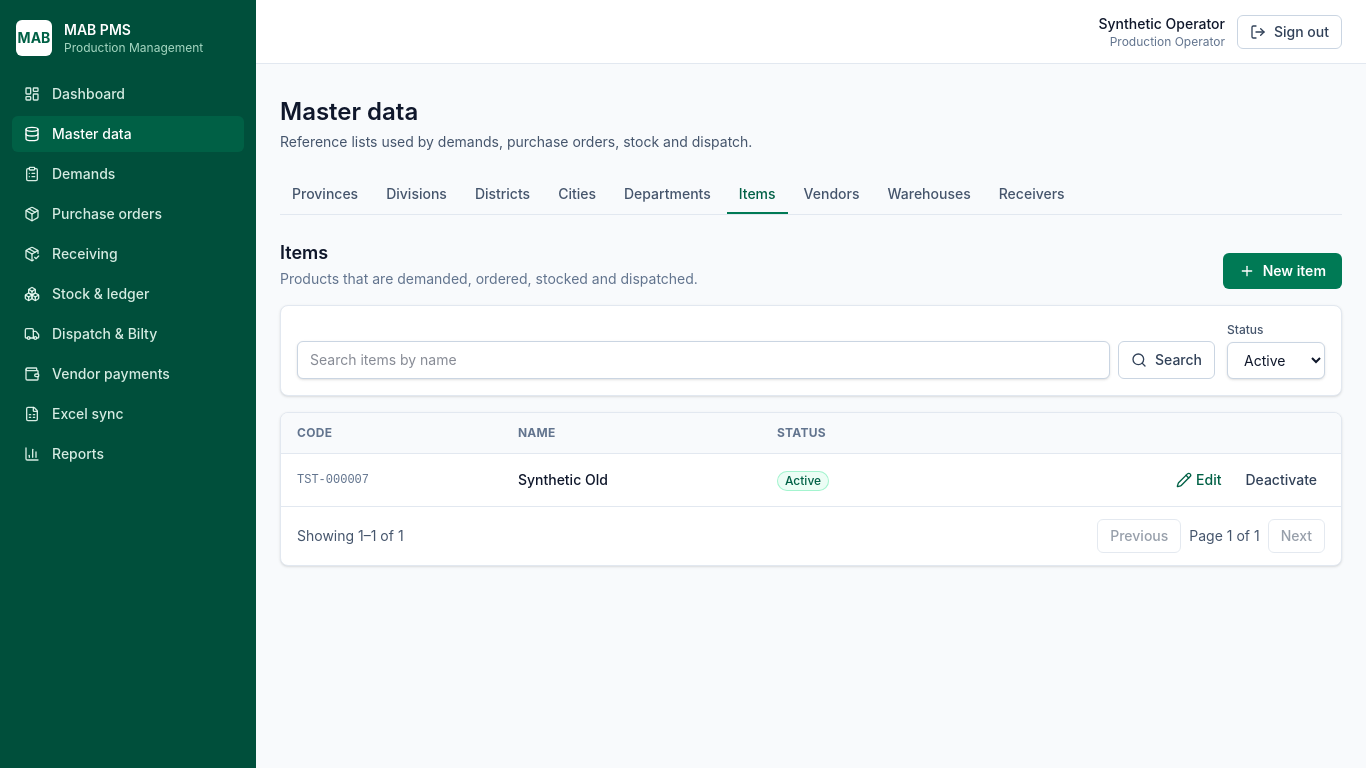
Test: Master data — create, edit and deactivate › edits a record, sending only changed fields with the revision
Click the button with aria-label "Edit Synthetic Old" at (1199, 480), box [1168,466,1230,494]
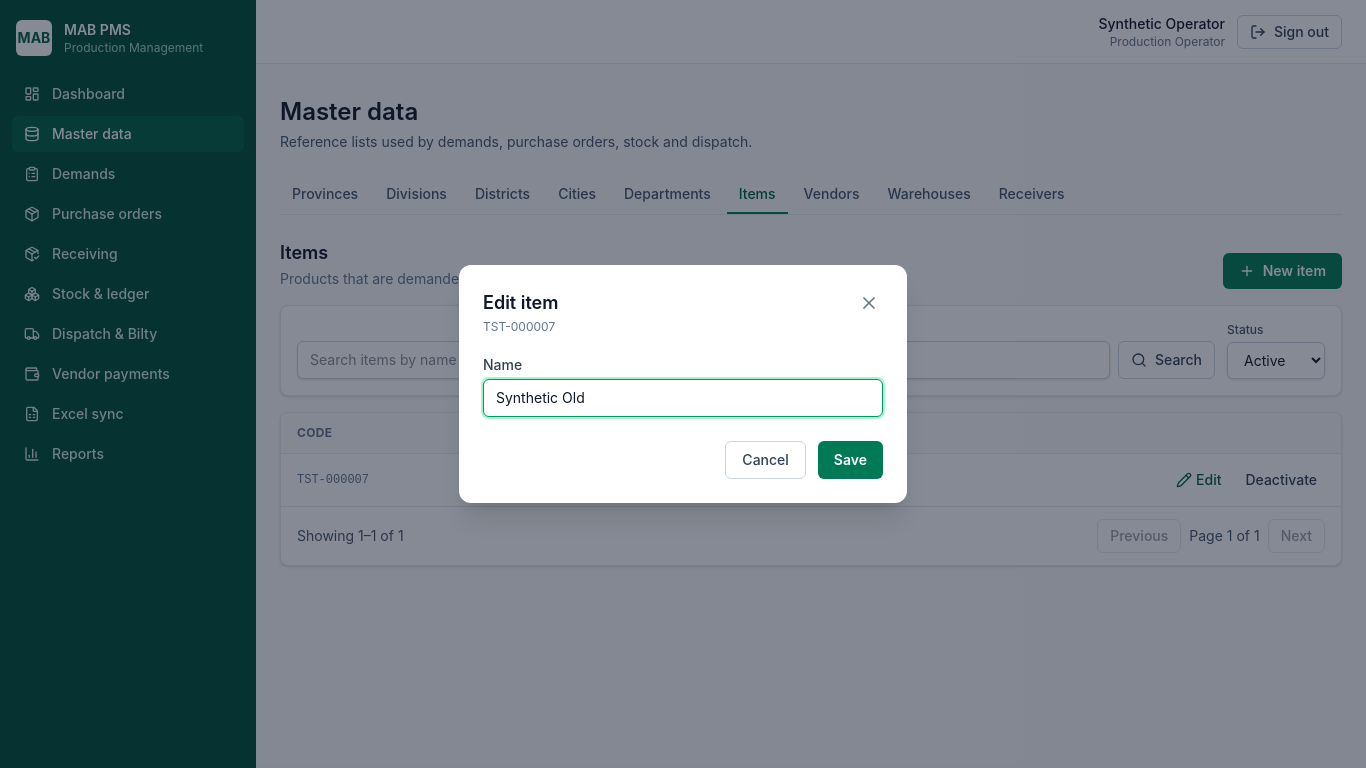
Now the field labelled "Name" holds "Synthetic Old"
Replace the text in the field labelled "Name" with "Synthetic New" at (683, 398), box [483,379,883,417]
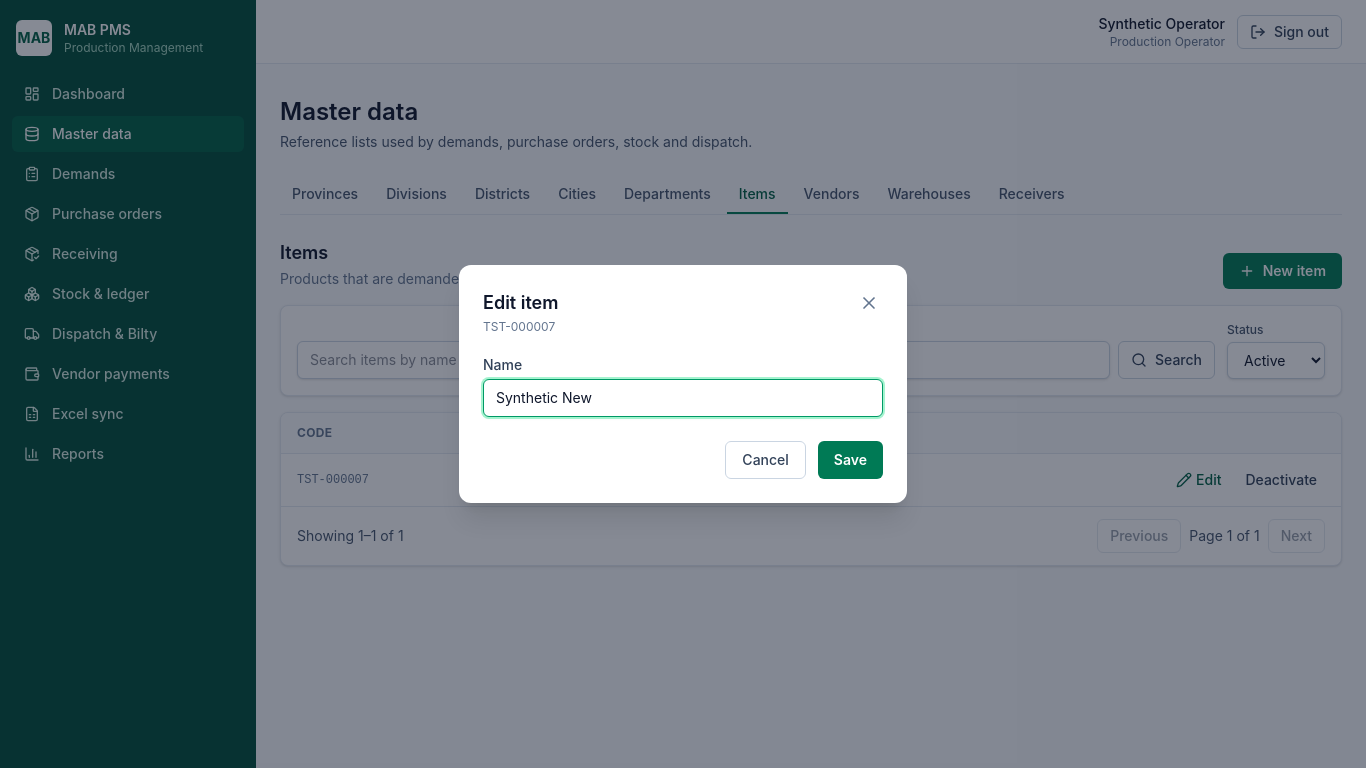
Click the button "Save" at (850, 460), box [818,441,883,479]
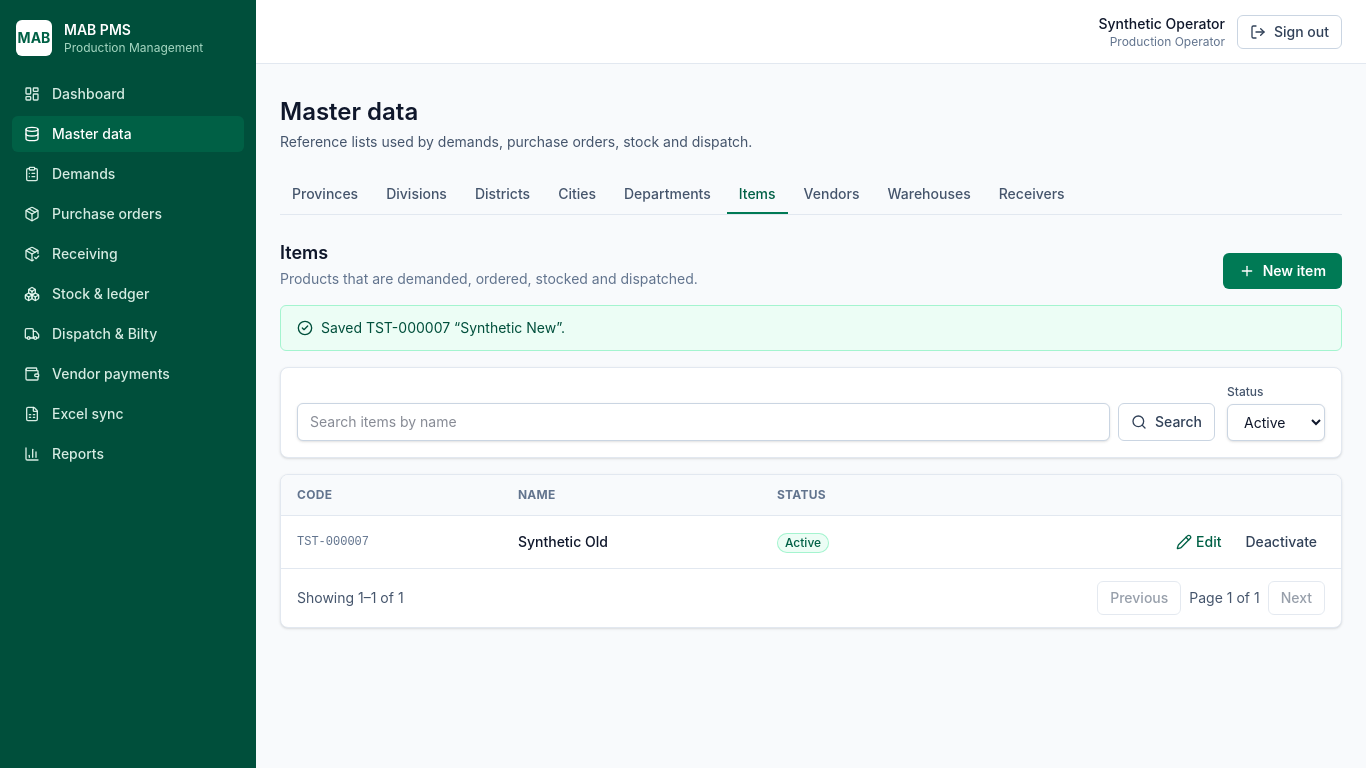
Now the message shows "Saved", box [321,319,565,336]
